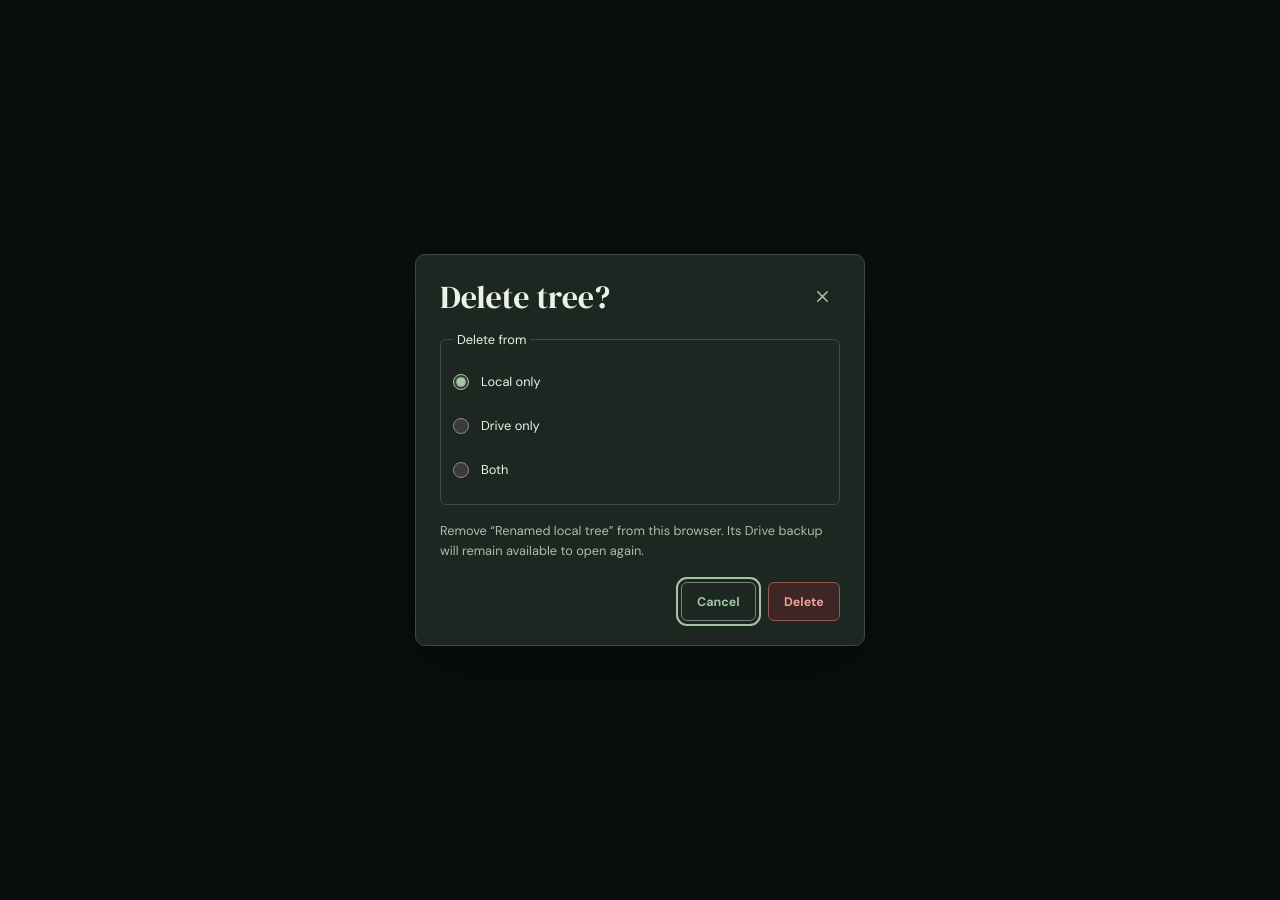
Scenario: Workspace deletion confirmation › identifies the correct copies for both deletion after a local rename
The width and height of the screenshot is (1280, 900).
Click the radio button labelled "Both" at (461, 470), box [453,462,469,478]
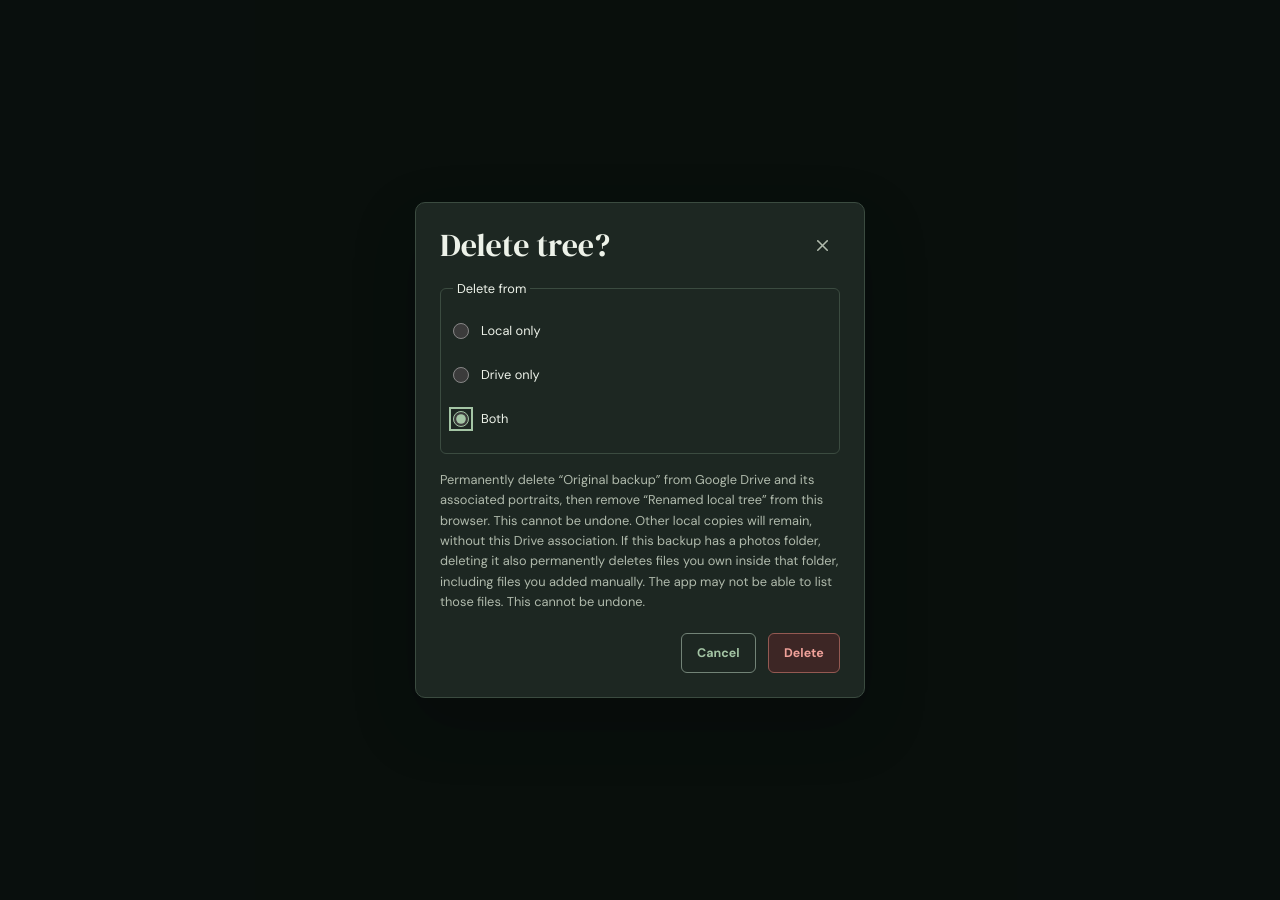
expect the text "“Renamed local tree” from this browser" is shown: met, box [440,471,838,610]
expect the text "“Original backup” from Google Drive" is shown: met, box [440,471,838,610]
